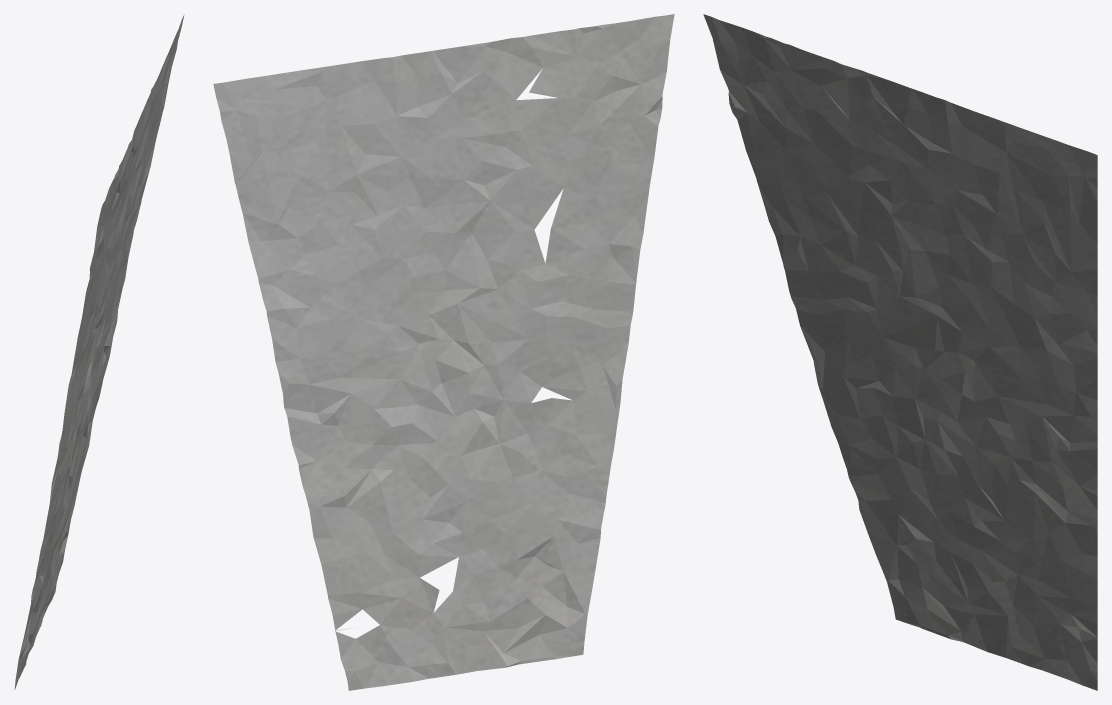
3 renders of one model, left to right at view 1: azimuth 30°, elevation 25°; view 2: azimuth 150°, elevation 25°; view 3: azimuth 270°, elevation 25°, orthographic. The views are drawn at different scales.
Size of the model in its own units: 0.4188 by 0.8374 by 0.4946.
Materials: 2 (2 with a texture image).
